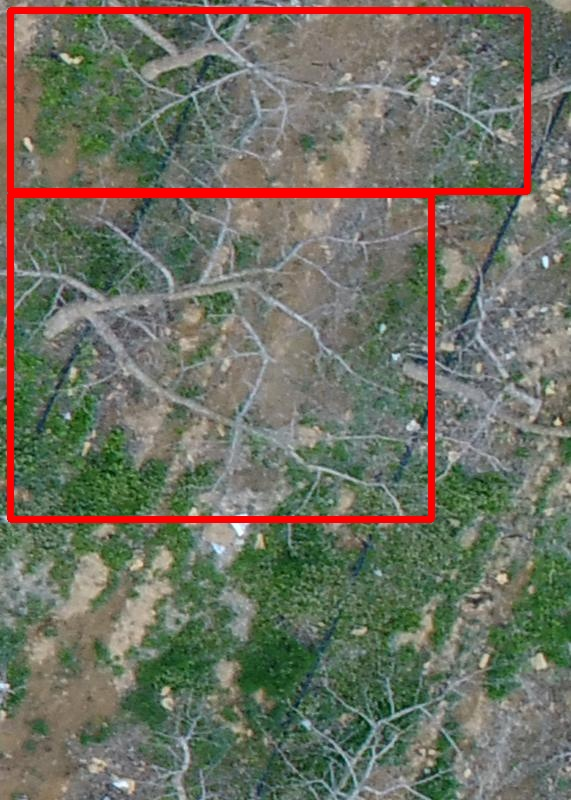apple: (10, 194, 431, 519), (10, 10, 527, 191)
